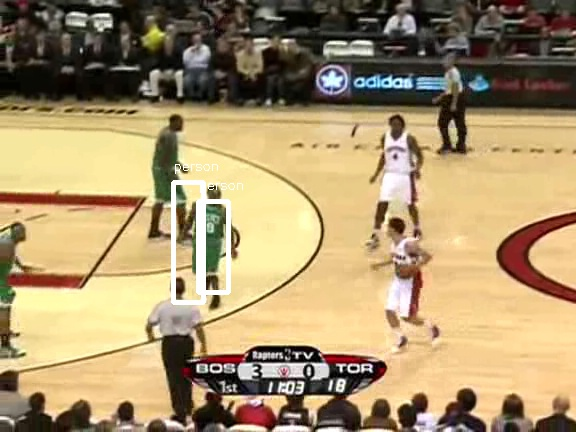person: (192, 201, 226, 282), (191, 201, 225, 282), (193, 201, 227, 282), (192, 200, 226, 281), (192, 202, 226, 283)
target_negative: (348, 269, 575, 395), (315, 349, 375, 429), (506, 231, 571, 301), (91, 418, 507, 428), (434, 401, 562, 423), (9, 378, 193, 393)
